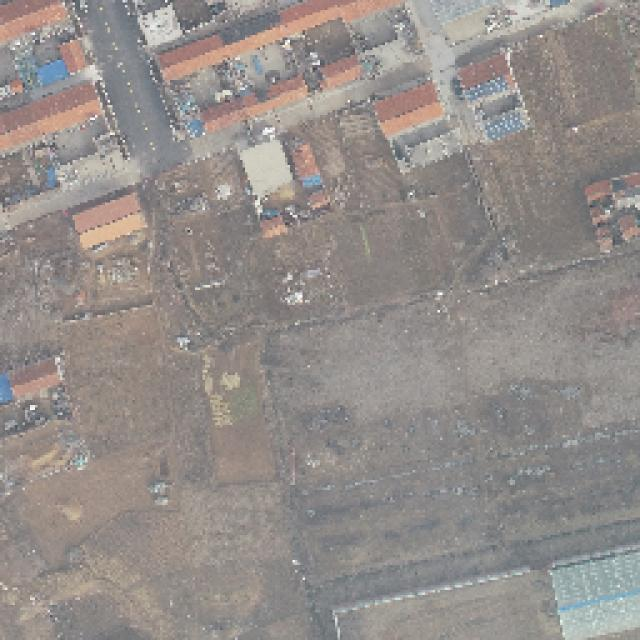Batiment: (159, 0, 404, 81), (2, 86, 101, 152), (201, 76, 308, 132), (585, 172, 640, 253), (72, 192, 146, 248), (375, 82, 445, 136), (458, 54, 515, 103), (1, 5, 64, 42), (320, 55, 361, 88), (291, 142, 320, 179), (59, 40, 88, 73), (260, 215, 288, 238), (308, 190, 330, 209)
